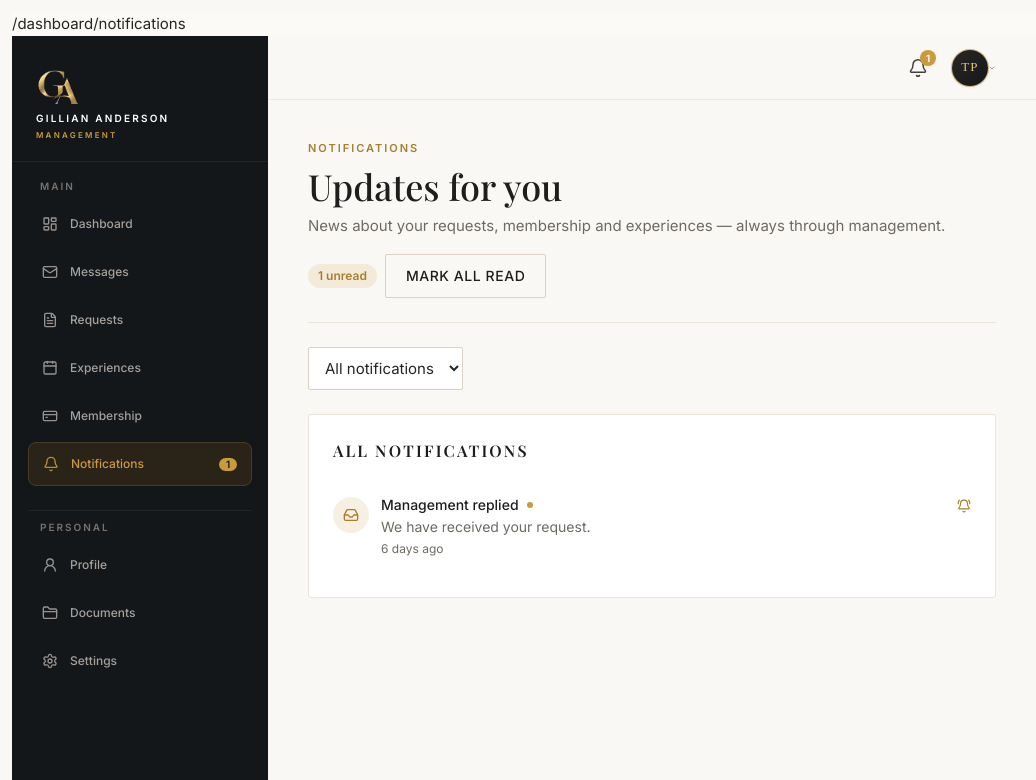
Test: notifications › shows unread state, marks all read and opens a detail
Expected: the text "Management replied" is shown, [381,495,518,515]
Expected: the text "1 unread" is shown, [308,264,377,288]
Click the button "Mark all read" at [466, 276], box [385,254,546,298]
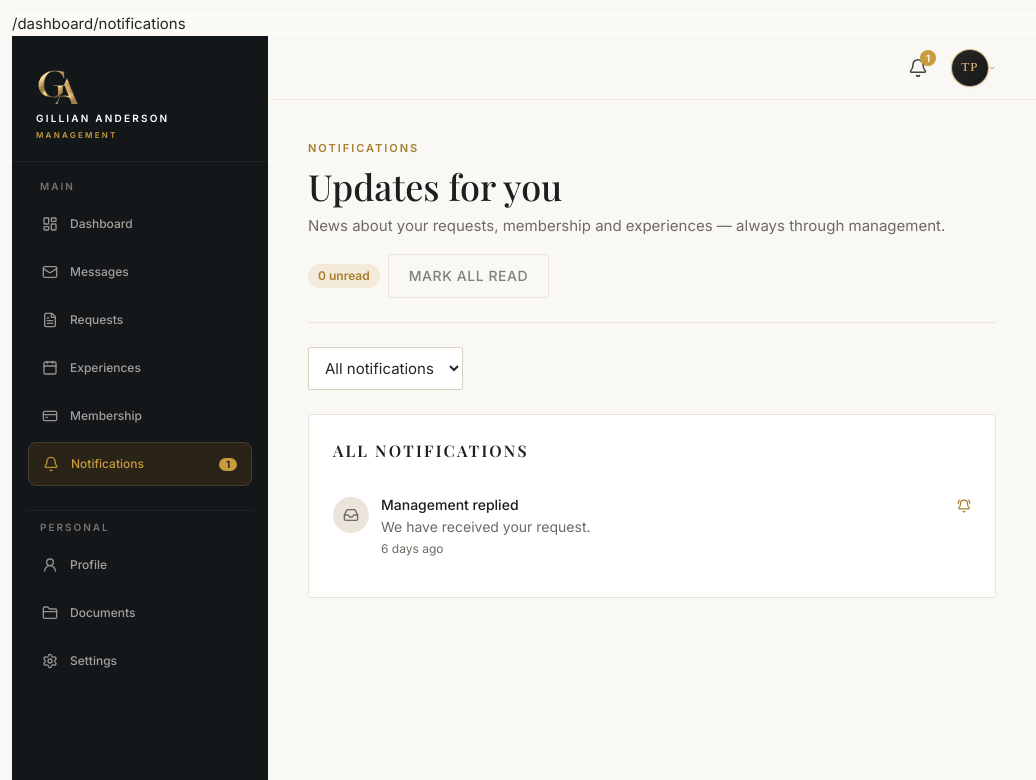
Expected: the text "0 unread" is shown, [308,264,380,288]
Click the link "Management replied" at [351, 515], box [333,479,971,573]
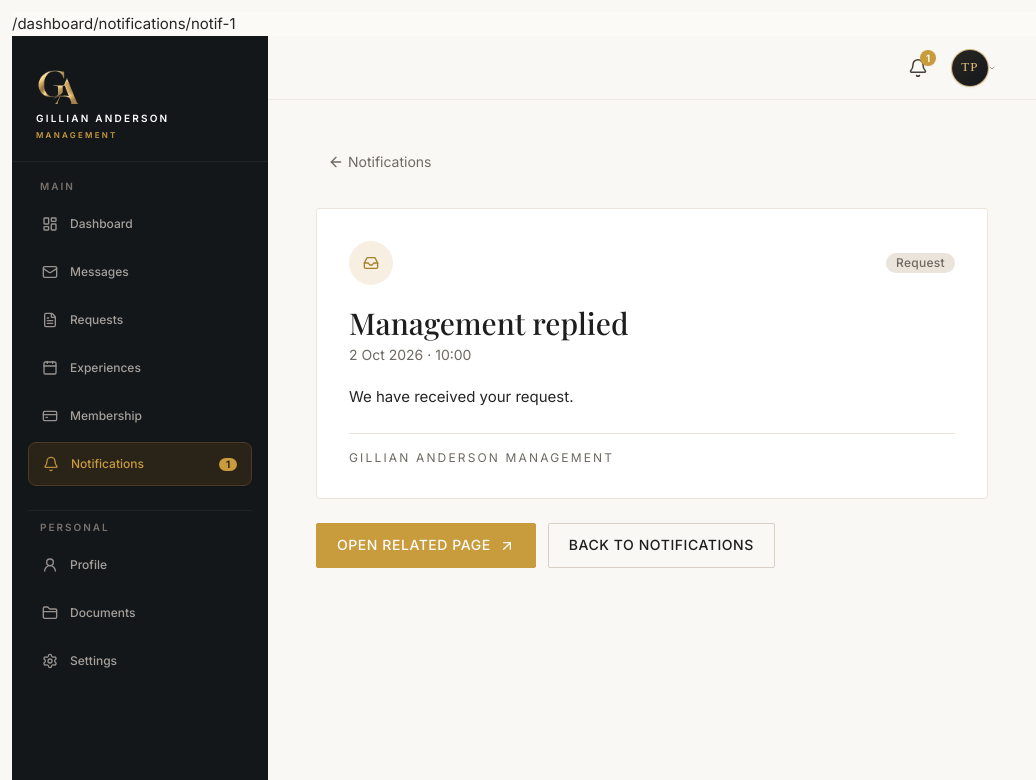
Expected: the heading "Management replied" is shown, [349,303,629,343]
Expected: the text with test id "location" reads "/dashboard/notifications/notif-1", [12,14,236,33]
